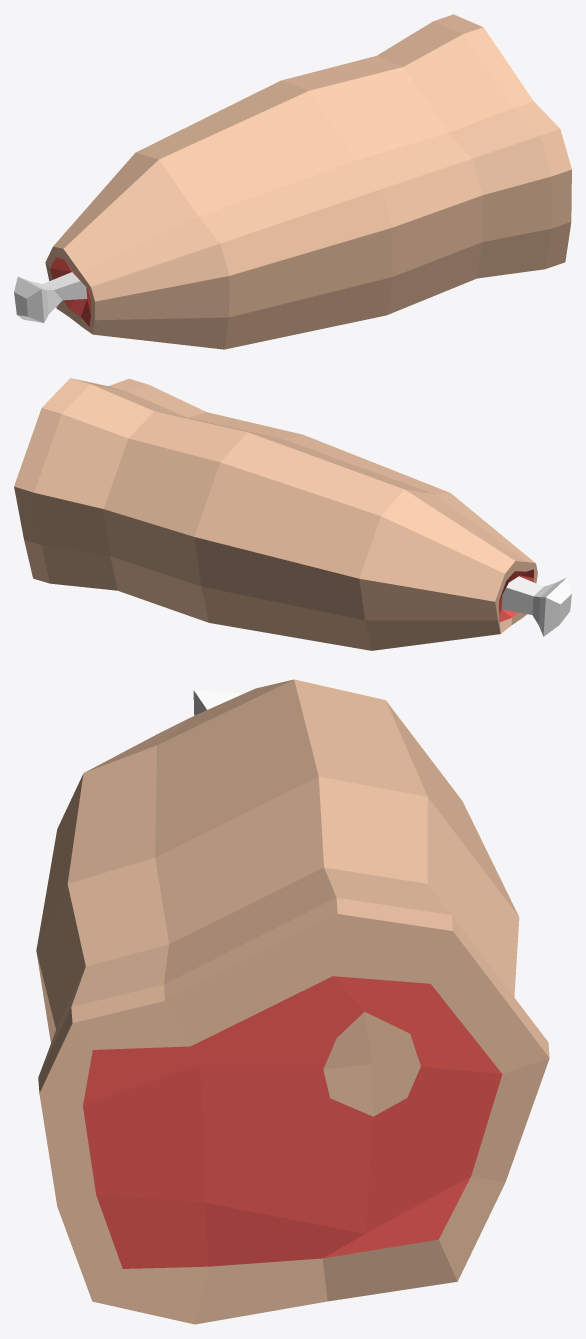
Rendered from meat-type-002.obj.
The picture shows the model from 3 angles, top to bottom: view 1: azimuth 30°, elevation 25°; view 2: azimuth 150°, elevation 25°; view 3: azimuth 270°, elevation 25°; orthographic projection. The views are drawn at different scales.
Visible parts, largest first — view 1: meat-type-002; view 2: meat-type-002; view 3: meat-type-002.
Boxes of the visible parts, x1=… form: meat-type-002: x1=14, y1=14, x2=571, y2=349; meat-type-002: x1=14, y1=378, x2=571, y2=650; meat-type-002: x1=36, y1=679, x2=549, y2=1324.
Bounding box in the file's own units: 0.4987 × 0.1961 × 0.2269.
